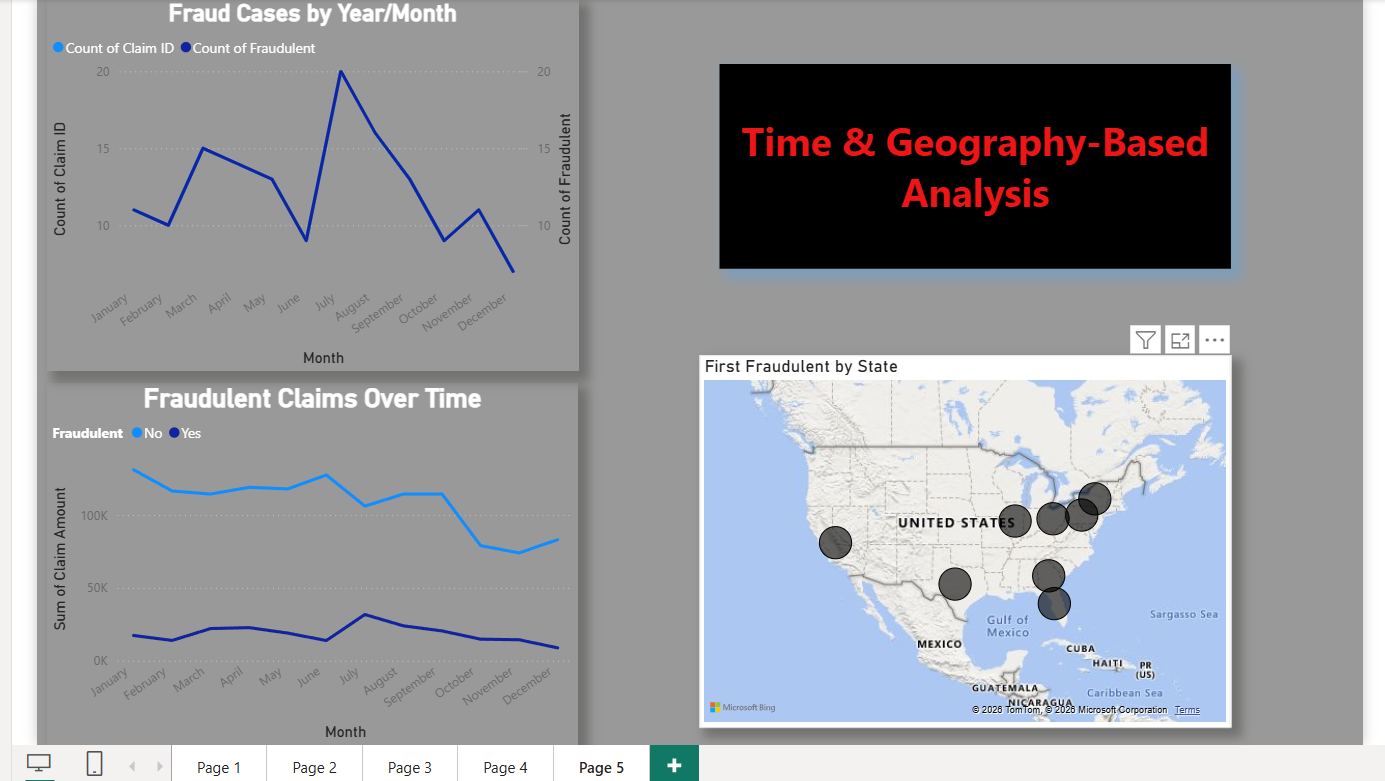

Layout of this report page (visuals, bound fields, positions):
{"tool":"powerbi","page":{"name":"Page 5","canvas":[1280,720],"ordinal":4},"visuals":[{"type":"lineChart","title":"Fraud Cases by Year/Month","fields":{"Category":["Healthcare_Claims_Fraud_Dataset.Claim Date.Variation.Date Hierarchy.Month"],"Y":["CountNonNull(Healthcare_Claims_Fraud_Dataset.Claim ID)"],"Y2":["CountNonNull(Healthcare_Claims_Fraud_Dataset.Fraudulent)"]},"box":[9.6,0,513.2,359.5],"z":0},{"type":"lineChart","title":"Fraudulent Claims Over Time","fields":{"Category":["Healthcare_Claims_Fraud_Dataset.Claim Date.Variation.Date Hierarchy.Month"],"Y":["Sum(Healthcare_Claims_Fraud_Dataset.Claim Amount)"],"Series":["Healthcare_Claims_Fraud_Dataset.Fraudulent"]},"box":[10,370,513,350],"z":1000},{"type":"map","fields":{"Category":["Healthcare_Claims_Fraud_Dataset.State"],"Series":["Healthcare_Claims_Fraud_Dataset.Claim ID"]},"box":[639.5,344.4,513.2,359.5],"z":2000},{"type":"shape","box":[658.7,63.1,494,197.6],"z":3000}]}

Visuals, with their boxes in screenshot pixels (x1, y1, x2, y2):
"Fraud Cases by Year/Month" lineChart: locate(50, 0, 578, 370)
"Fraudulent Claims Over Time" lineChart: locate(50, 381, 578, 741)
map - Healthcare_Claims_Fraud_Dataset.State x Healthcare_Claims_Fraud_Dataset.Claim ID: locate(698, 354, 1226, 724)
shape: locate(718, 65, 1226, 268)
